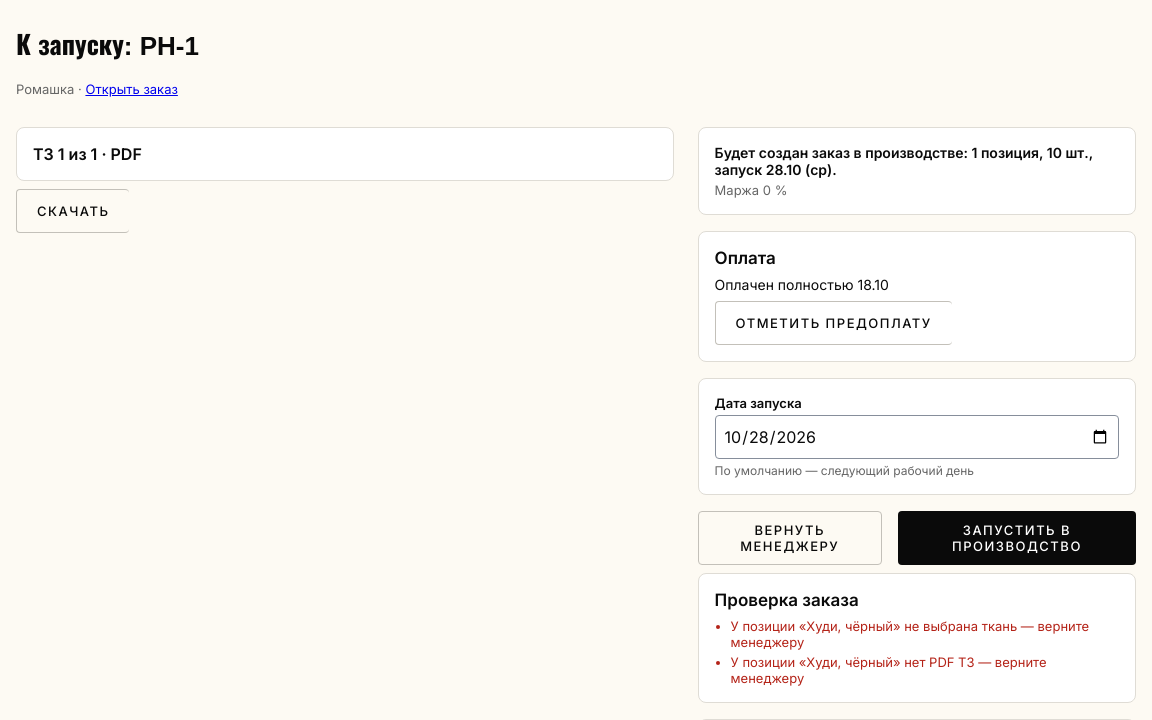
Test case: LaunchScreen › «Отметить: заказ сдан» после запуска — итог «Заказ сдан» с фокусом и тост
Click the button "Запустить в производство" at coordinates (1017, 538), box [898, 511, 1136, 565]
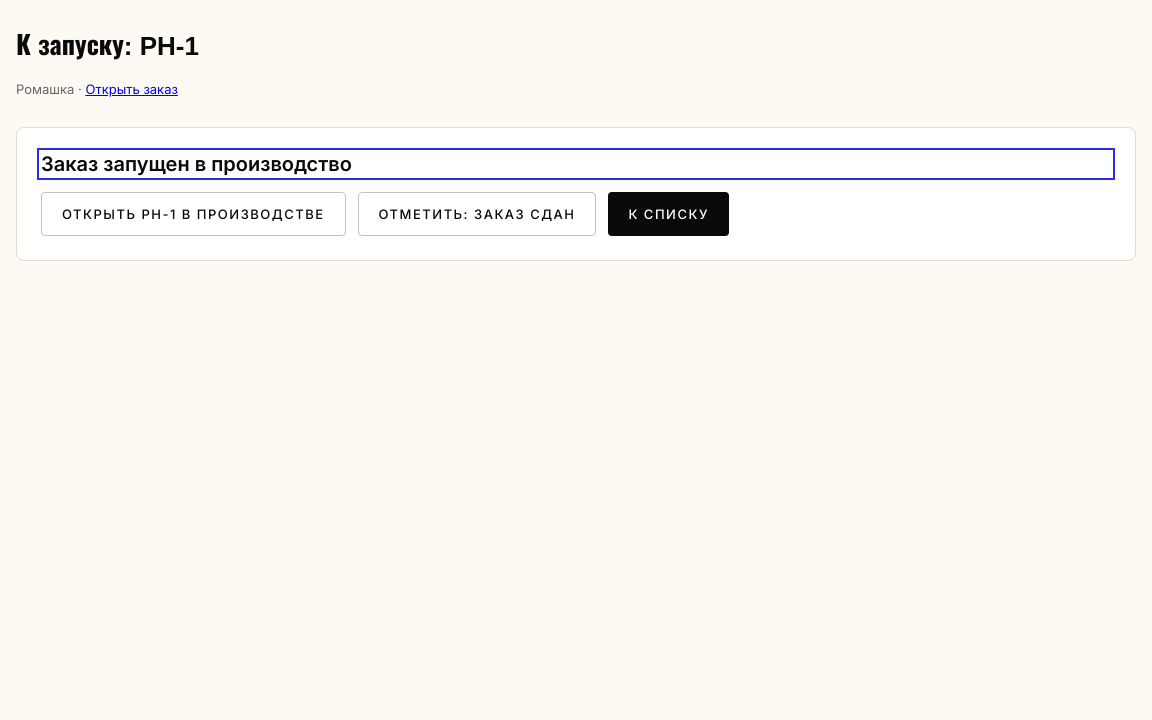
Click the button "Отметить: заказ сдан" at coordinates (477, 214), box [358, 192, 596, 236]
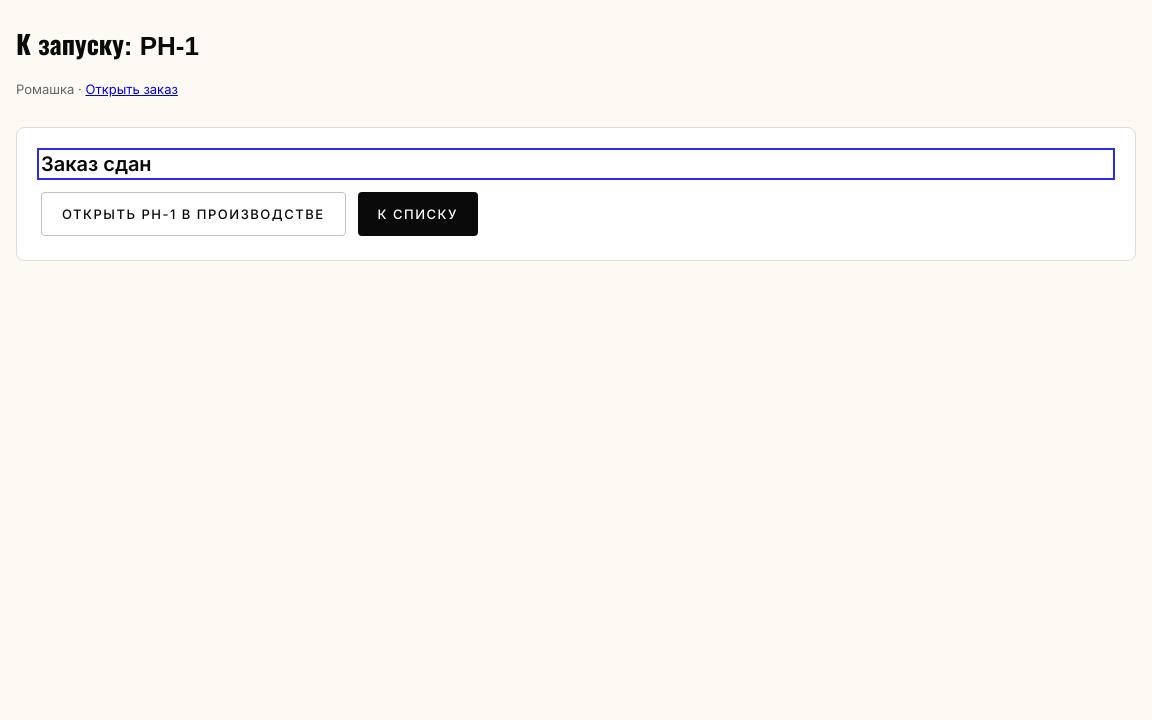
expect the button "Отметить: заказ сдан" is gone: met
